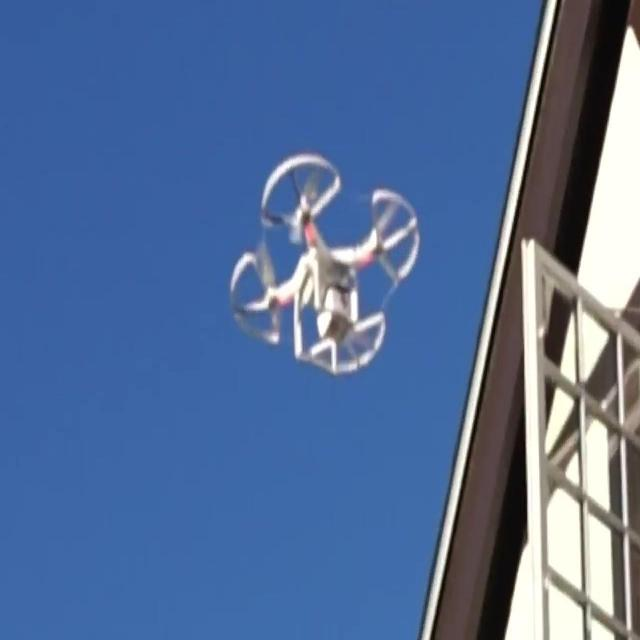UAV: (230, 153, 420, 378)
